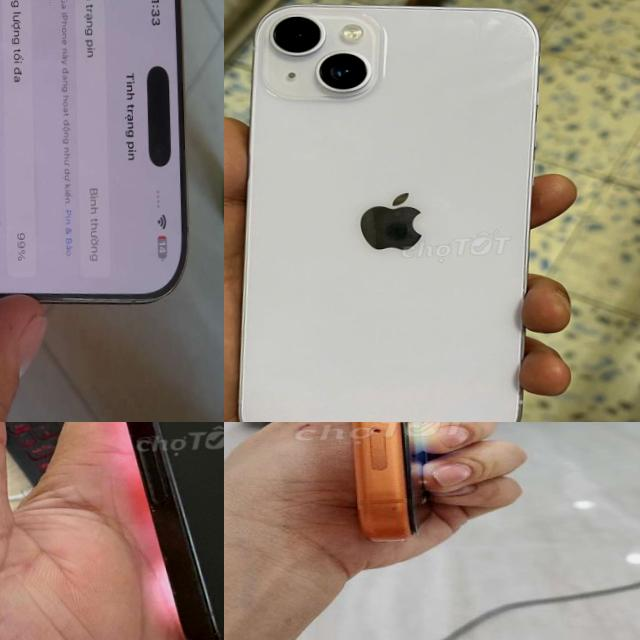gen_14: (224, 0, 561, 422)
gen_16: (0, 0, 187, 301), (41, 422, 224, 640)
gen_17: (293, 422, 468, 551)
scratch: (135, 422, 177, 528), (196, 588, 224, 640), (163, 548, 187, 569)
